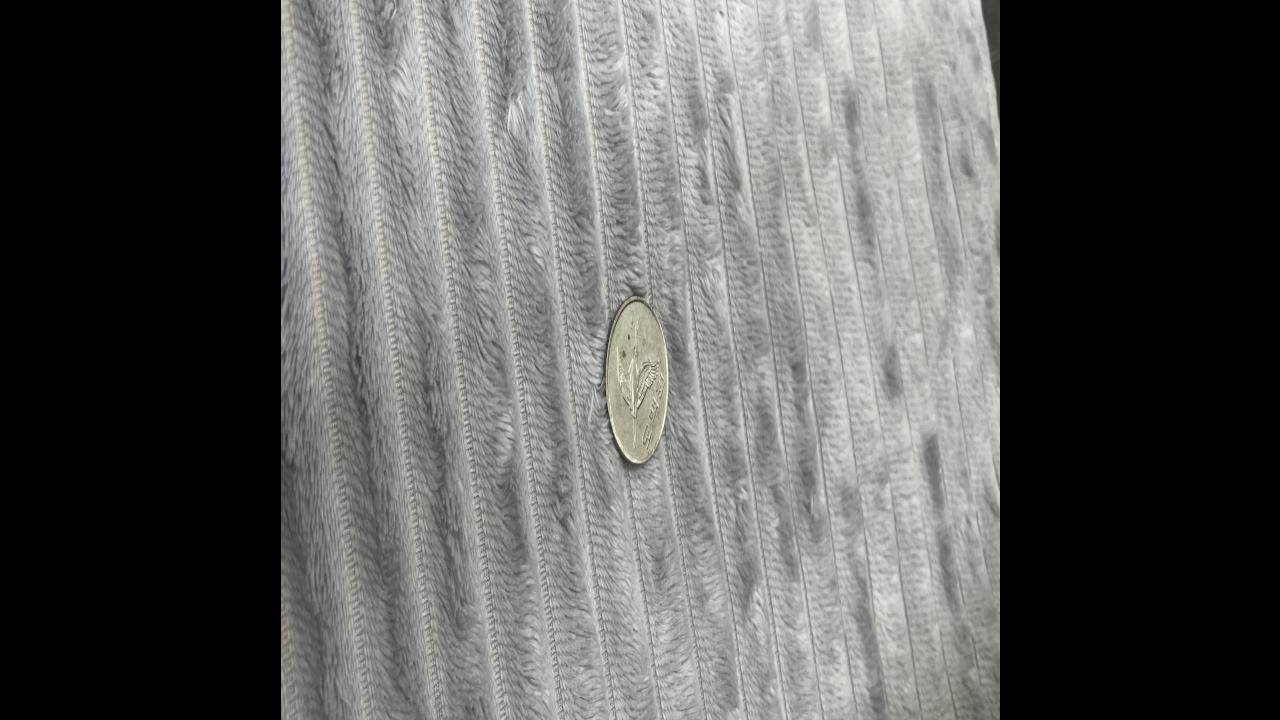coin: (603, 296, 669, 470)
